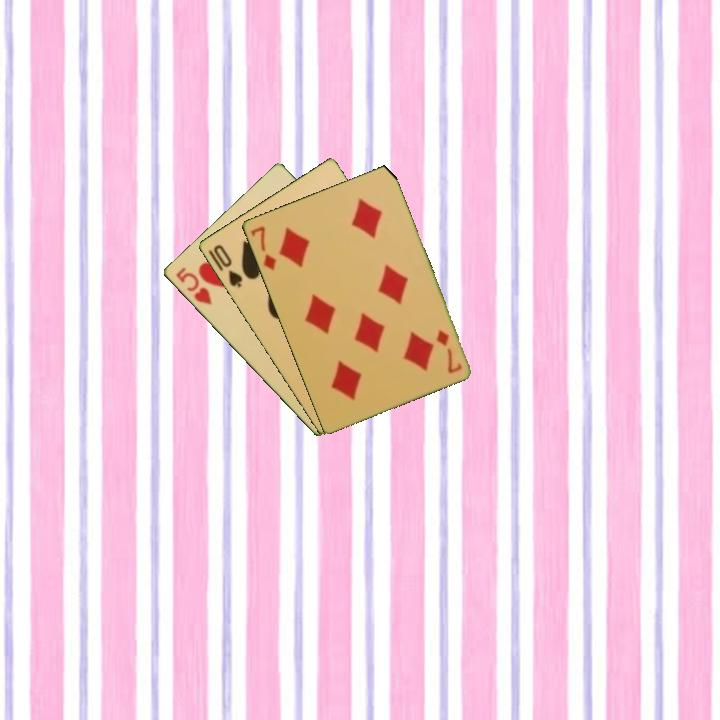10s: (209, 241, 245, 290)
5h: (171, 264, 214, 308)
7d: (247, 222, 279, 273), (432, 326, 464, 376)
